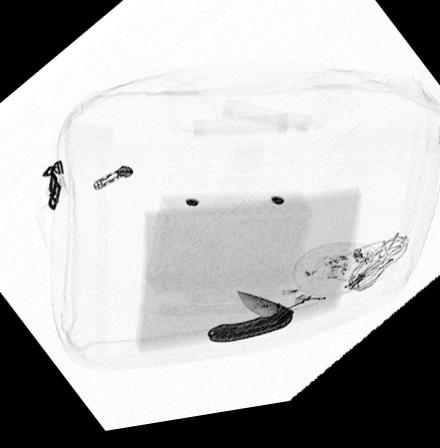Knife: (206, 296, 296, 351)
